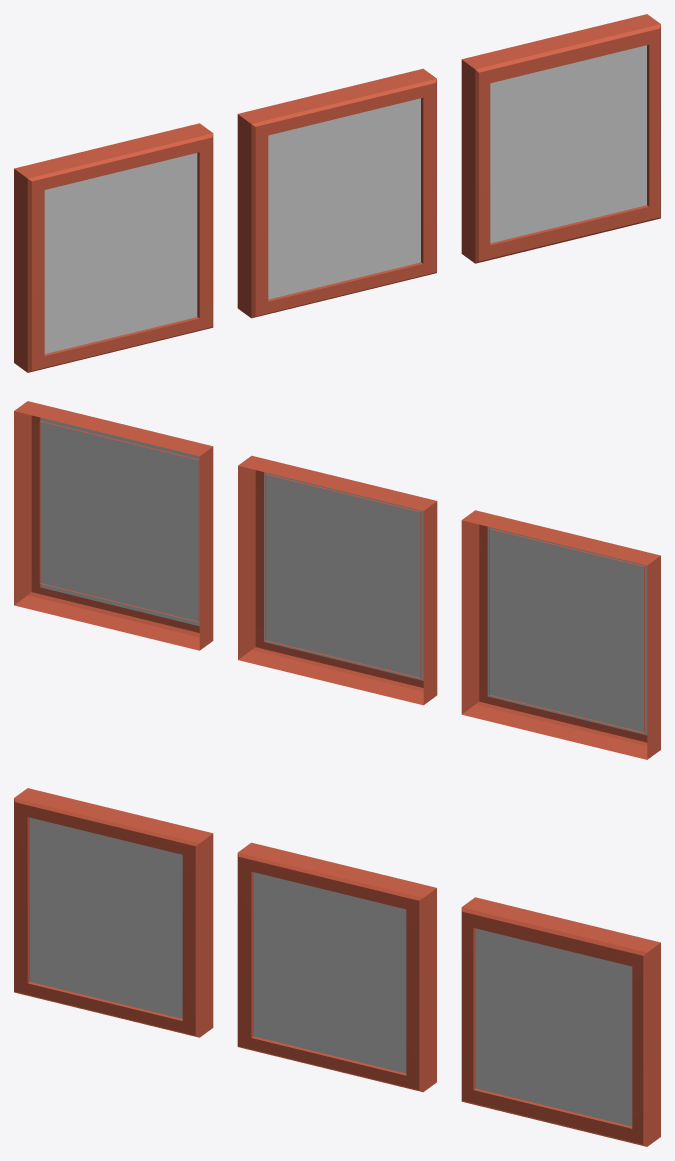
Rendered from paintings.fbx.
3 renders of one model, top to bottom at view 1: azimuth 30°, elevation 25°; view 2: azimuth 150°, elevation 25°; view 3: azimuth 330°, elevation 25°, orthographic.
Visible parts, largest first — view 1: Cube.013; view 2: Cube.013; view 3: Cube.013.
Part boxes in pixels (box(x1,y1,x2,y2)): Cube.013: box(14, 14, 660, 372); Cube.013: box(14, 401, 660, 759); Cube.013: box(14, 788, 660, 1146).
Bounding box in the file's own units: 849 × 249 × 35.67.
